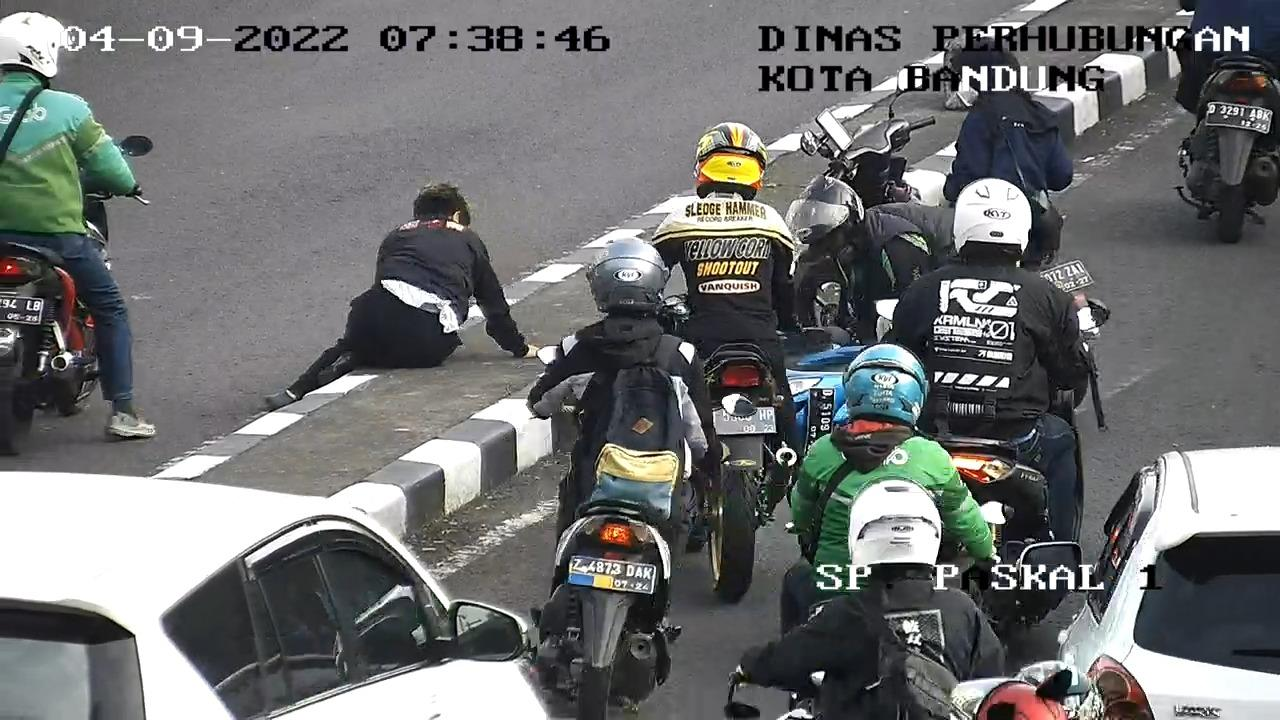accident: (242, 166, 571, 428)
